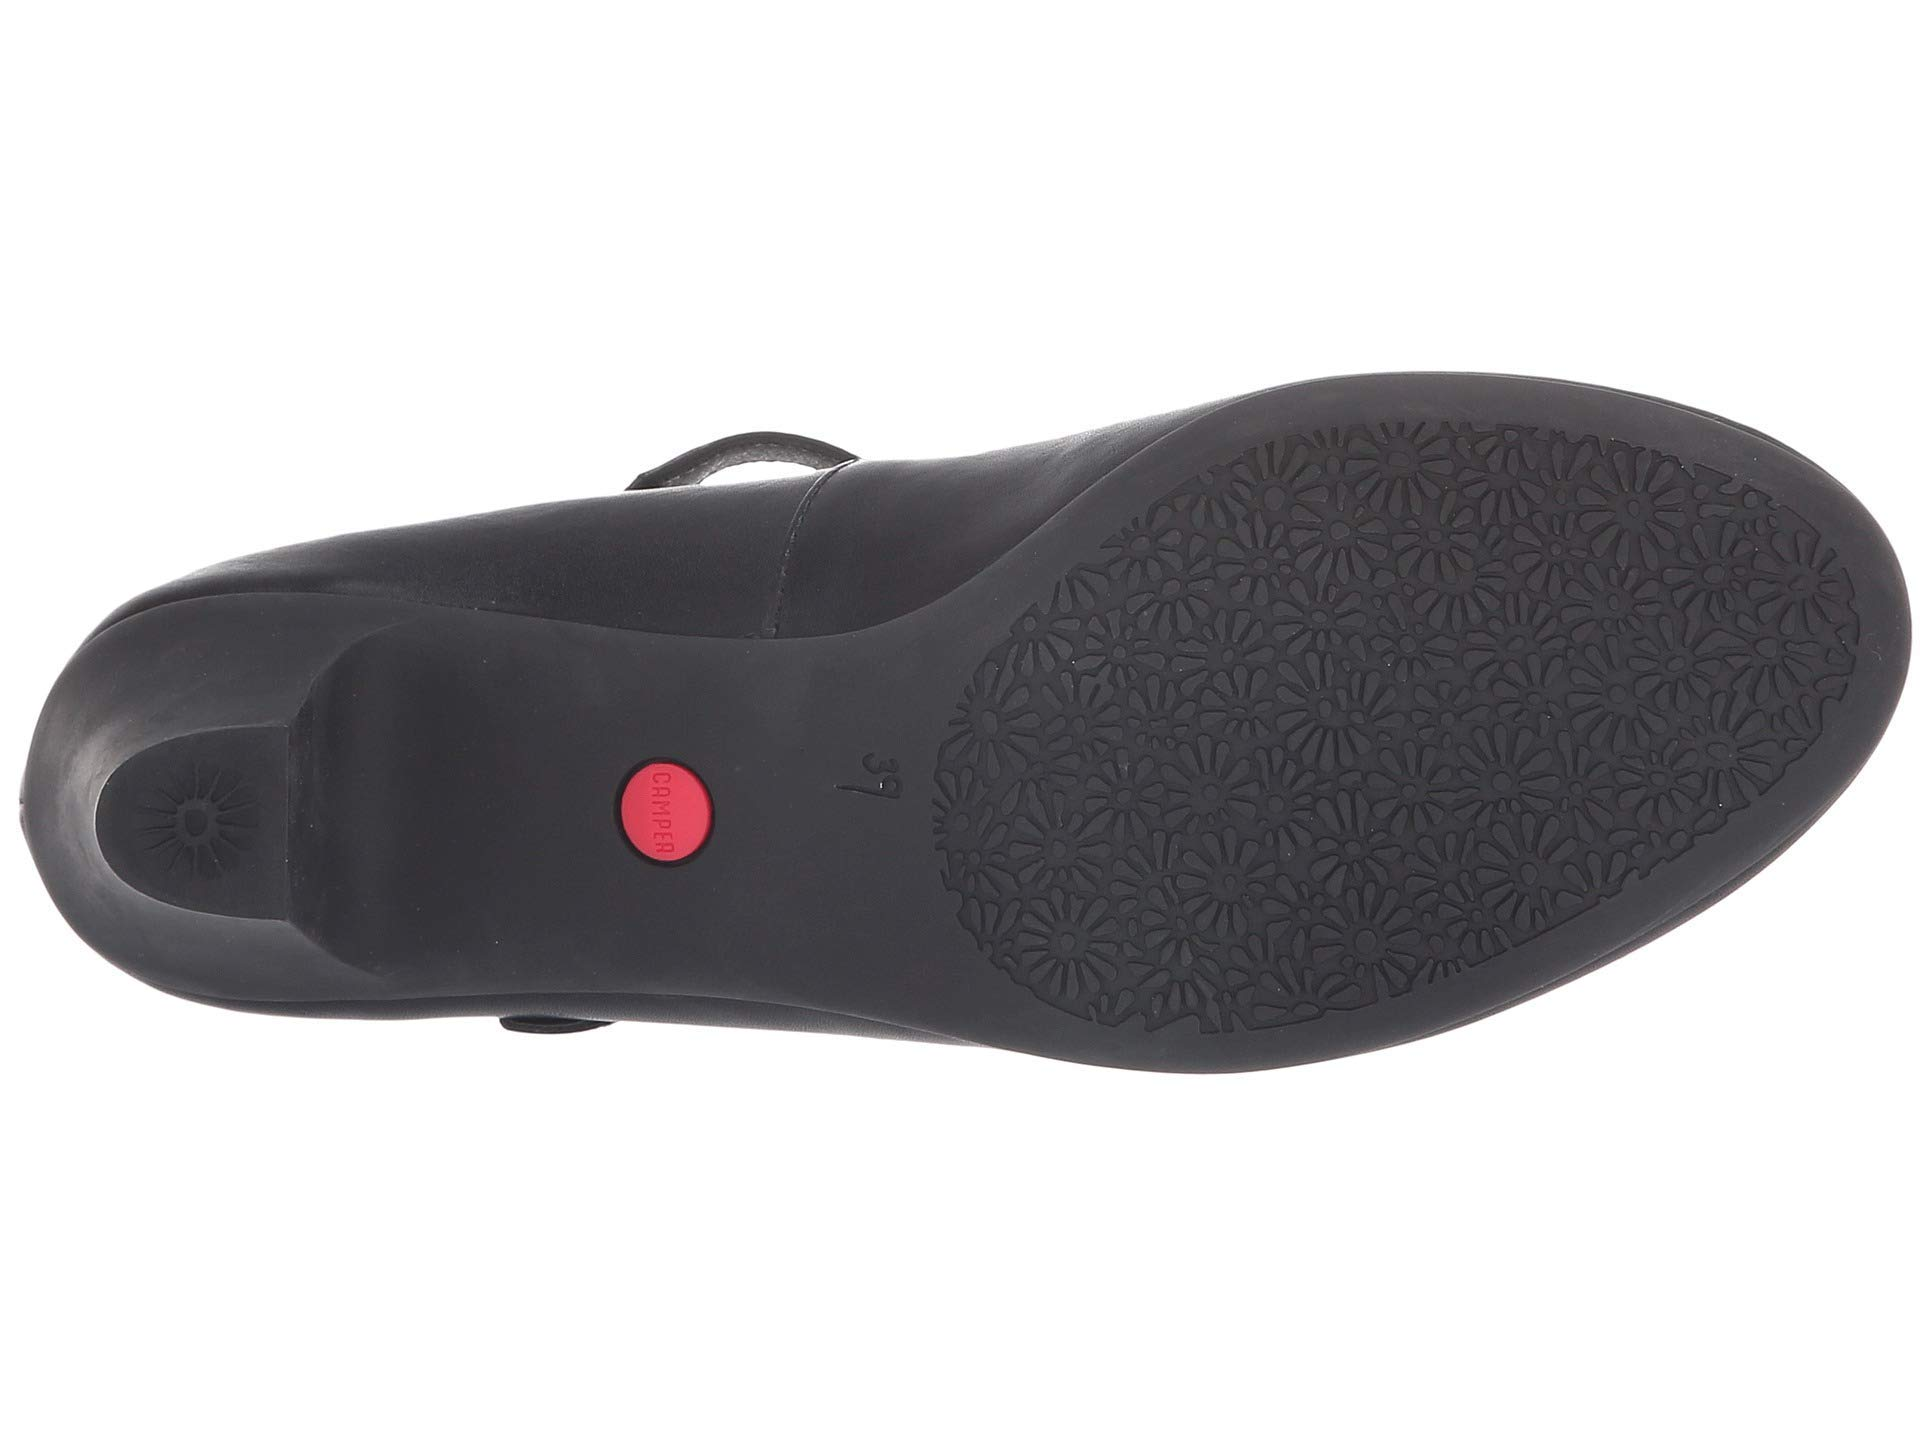circle: (1185, 498, 1658, 870), (121, 753, 283, 898), (605, 753, 729, 877)
line: (121, 753, 283, 898)
other: (1185, 498, 1658, 870)
text: (605, 753, 729, 877), (815, 734, 924, 843)
triangle: (1185, 498, 1658, 870)
